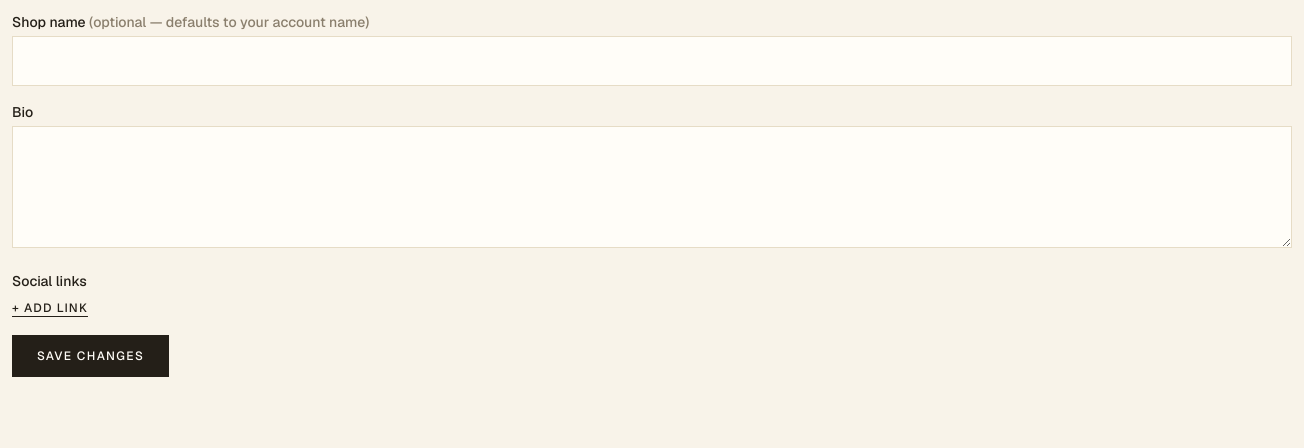
Test case: ShopProfileForm › adds a social link row via the editor and reflects it in the hidden field
This screenshot has width=1304, height=448.
Step 1. Click the button with test id "social-links-editor-add-button" → (50, 308), box 12,300 -> 88,316
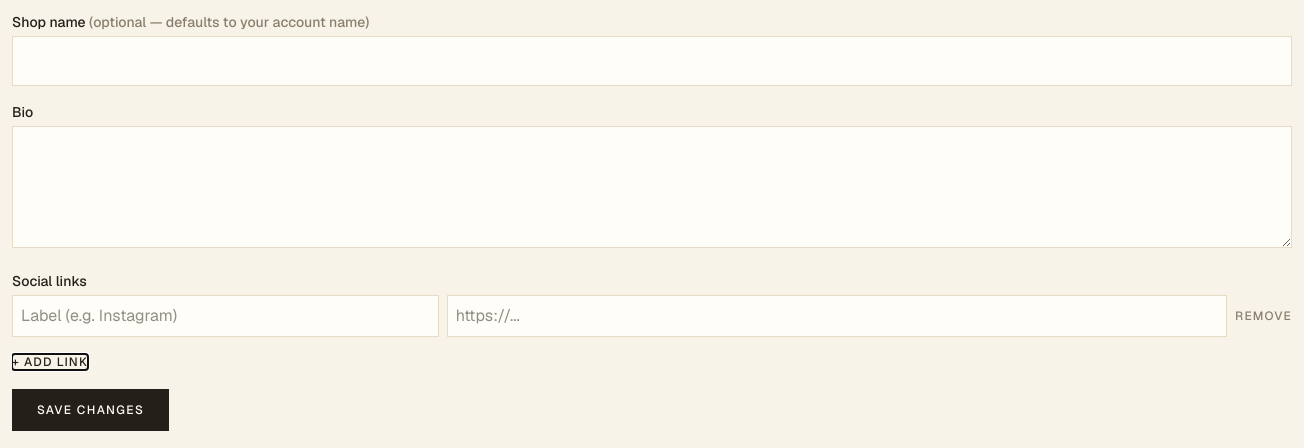
Expected: the field with test id "social-links-editor-label-input" is shown, 12,295 -> 439,337
